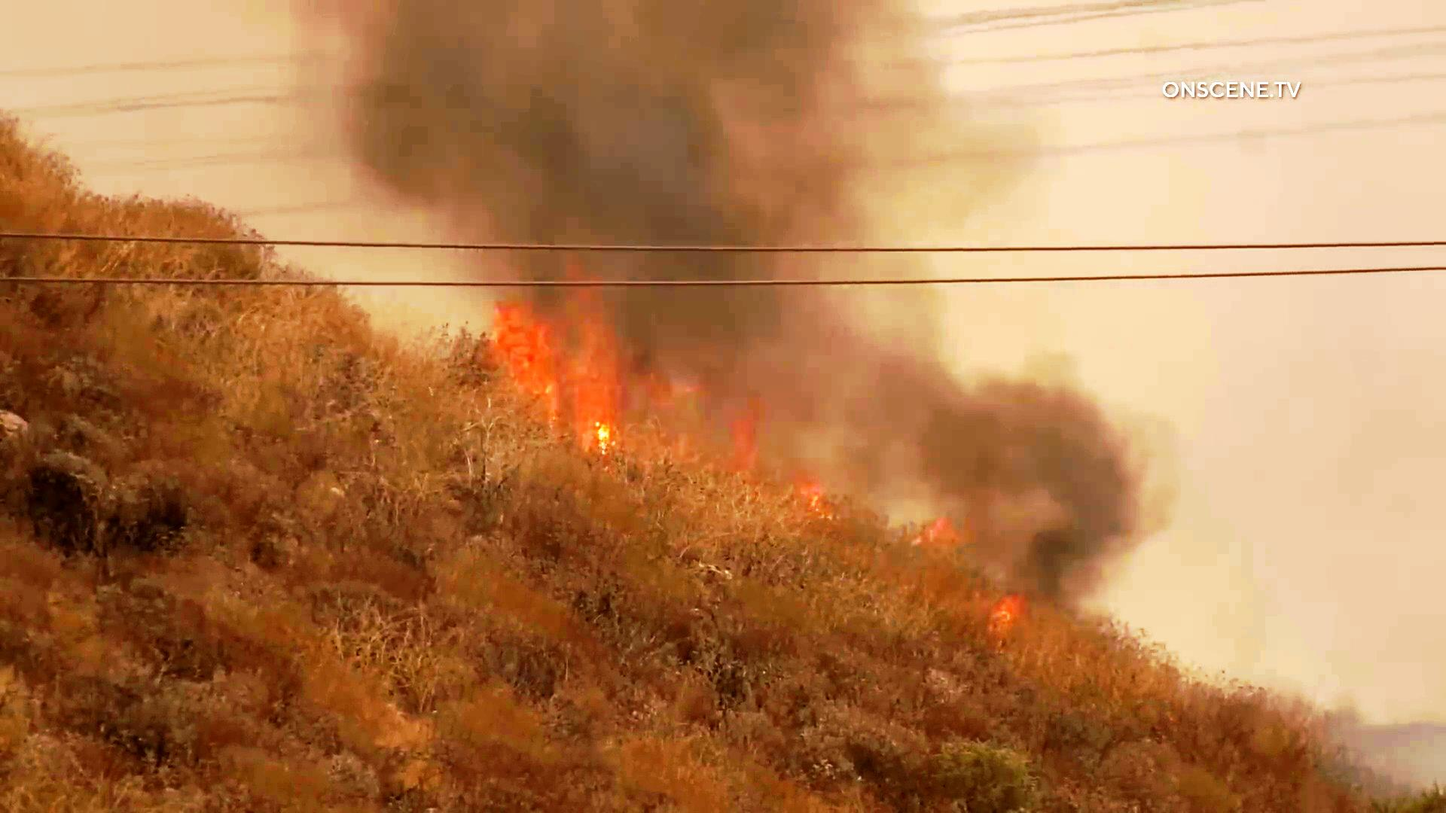fire: (469, 241, 578, 440), (551, 381, 667, 460)
smoke: (648, 57, 938, 377)
